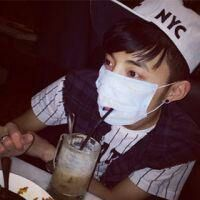face_mask: (98, 36, 167, 124)
